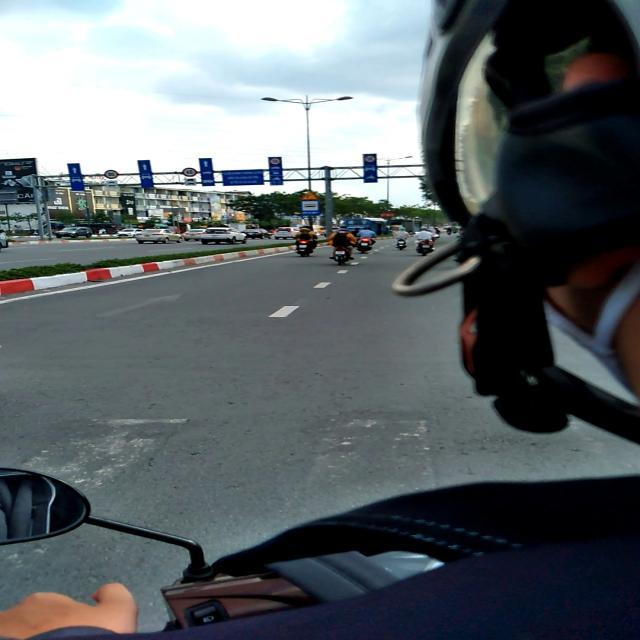Ben xe buyt: (300, 200, 320, 216)
Toc do toi da cho phep: (104, 170, 120, 180), (182, 167, 197, 177), (268, 157, 282, 165), (364, 155, 376, 163)
cho ngoat nguy hiem vong ben phai: (300, 191, 319, 200)
